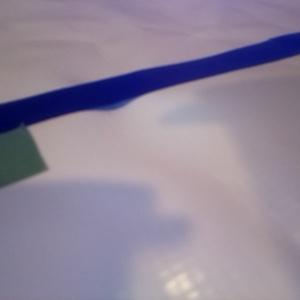bottom_right: (1, 103, 47, 189)
